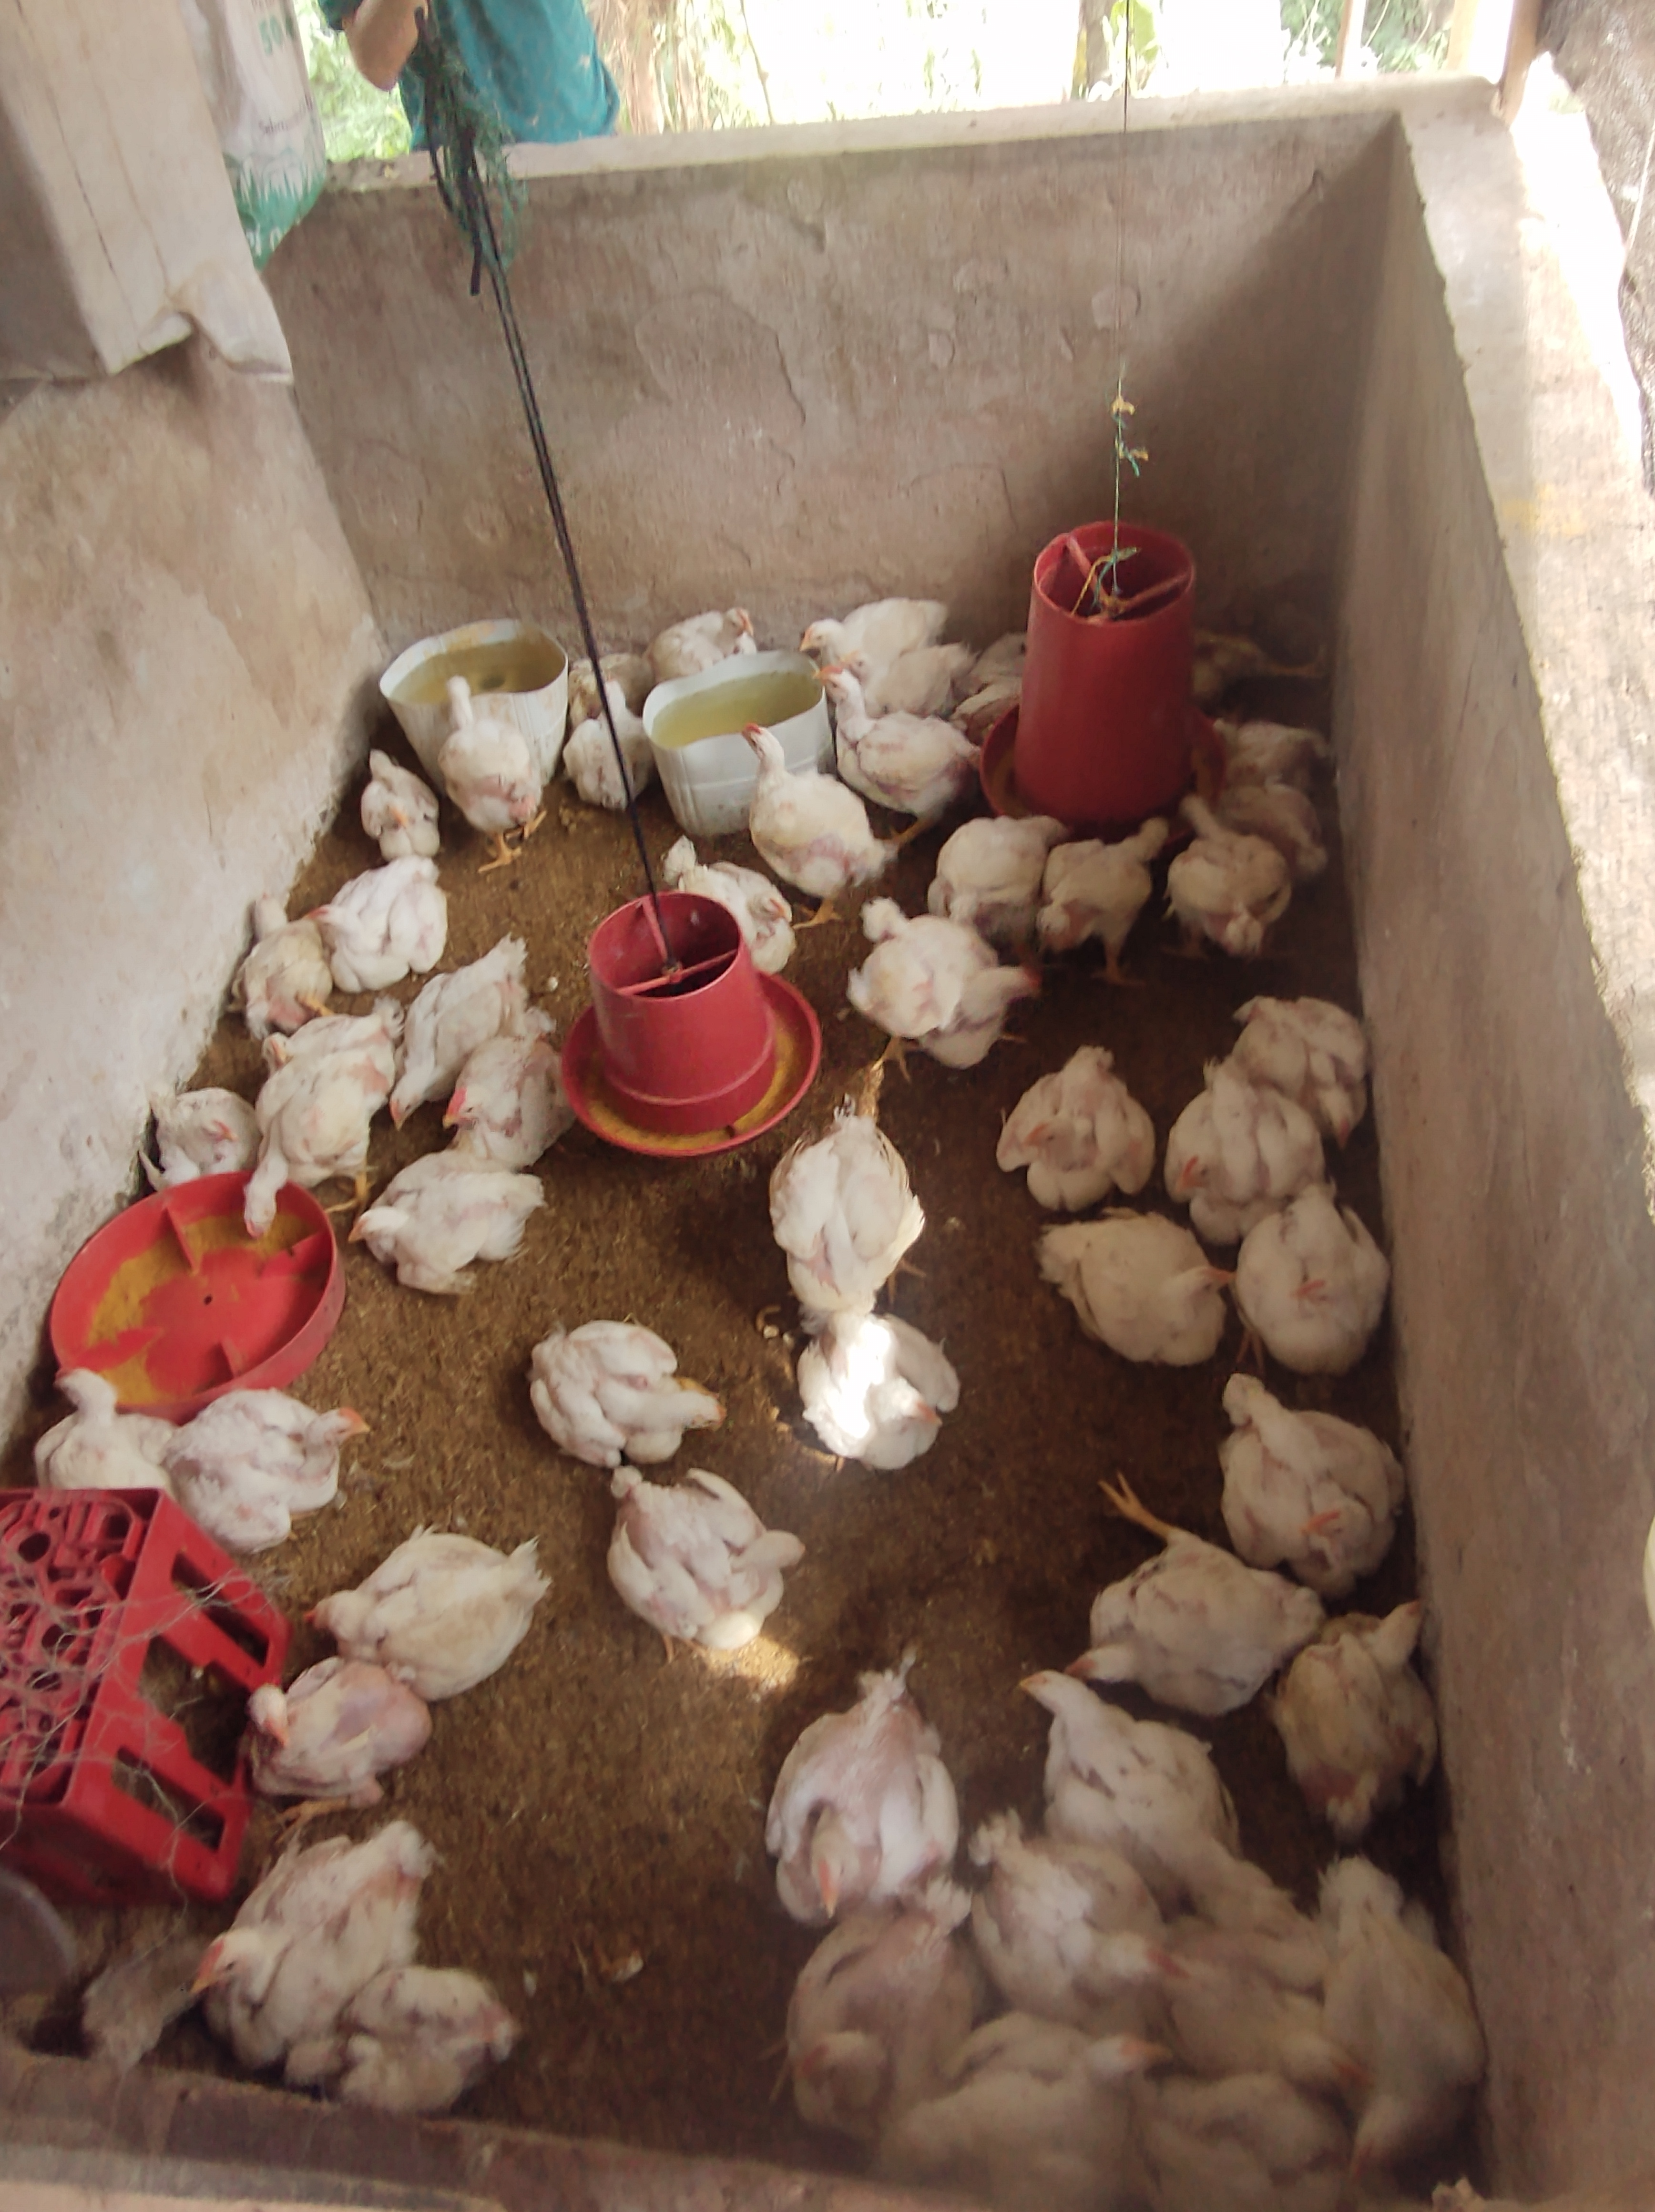Pollos: (1299, 1847, 1490, 2181), (186, 1828, 435, 2075), (774, 1662, 963, 1894), (970, 1817, 1186, 2012), (598, 1462, 815, 1654), (788, 1899, 958, 2127), (1220, 1377, 1410, 1576), (928, 2038, 1158, 2200), (306, 1534, 544, 1682), (1288, 1595, 1443, 1821), (1022, 1664, 1212, 1843), (775, 1115, 934, 1327), (226, 1052, 391, 1245), (1069, 1548, 1283, 1685), (528, 1316, 718, 1462), (996, 1045, 1163, 1210), (1040, 1217, 1233, 1355), (1233, 1200, 1396, 1358), (796, 1316, 960, 1468), (198, 1402, 367, 1534), (1151, 1064, 1290, 1223), (263, 1661, 433, 1789), (861, 934, 1034, 1057), (1163, 791, 1292, 953), (732, 727, 878, 864), (422, 682, 556, 829), (349, 1163, 509, 1287), (937, 791, 1071, 934), (1267, 991, 1380, 1139), (1050, 817, 1172, 946), (37, 1363, 167, 1482), (440, 1054, 567, 1162), (301, 866, 429, 972), (570, 670, 668, 809), (221, 896, 316, 1021), (355, 744, 454, 854), (136, 1085, 254, 1174), (716, 864, 814, 967), (796, 600, 944, 666), (814, 668, 909, 769), (391, 1009, 443, 1129), (669, 596, 751, 668)
